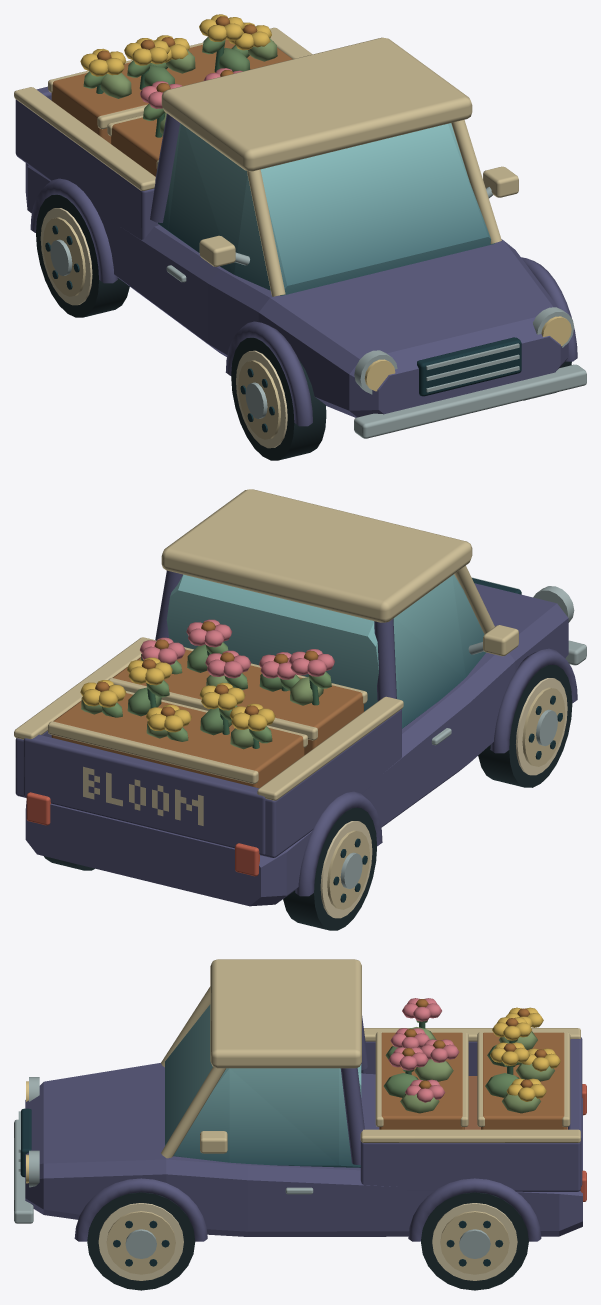
The model's file is florist-pickup.glb.
3 views of the same model, one above another, from view 1: azimuth 30°, elevation 25°; view 2: azimuth 150°, elevation 25°; view 3: azimuth 270°, elevation 25° (orthographic). The views are drawn at different scales.
Parts seen in each view (by area): view 1: body, glazing, wheel-front-right, wheel-back-right; view 2: body, glazing, wheel-front-right, wheel-back-right; view 3: body, glazing, wheel-front-left, wheel-back-left.
Boxes of the visible parts, x1,y1,x2,y2 form: body: (14, 14, 586, 438); glazing: (158, 123, 494, 295); wheel-front-right: (231, 337, 326, 460); wheel-back-right: (36, 194, 129, 317); body: (14, 489, 586, 906); glazing: (166, 574, 486, 728); wheel-front-right: (478, 665, 572, 787); wheel-back-right: (283, 807, 377, 930); body: (14, 959, 586, 1241); glazing: (165, 1004, 361, 1167); wheel-front-left: (87, 1192, 195, 1290); wheel-back-left: (421, 1192, 528, 1290).
Bounding box in the file's own units: 2.29 × 1.91 × 4.35.
